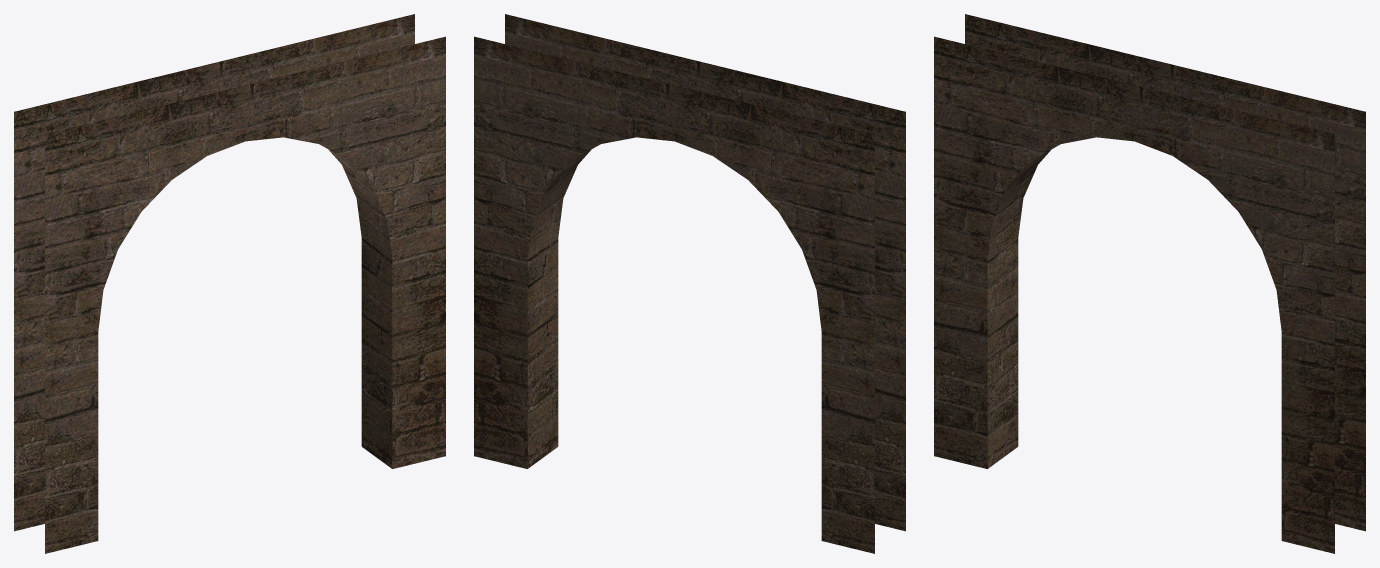
The model's file is arc_2_wall_1_plain.fbx.
The picture shows the model from 3 angles, left to right: view 1: azimuth 30°, elevation 25°; view 2: azimuth 150°, elevation 25°; view 3: azimuth 330°, elevation 25°; orthographic projection.
Parts seen in each view (by area): view 1: arc_2_wall_1_plain; view 2: arc_2_wall_1_plain; view 3: arc_2_wall_1_plain.
Part boxes in pixels (left/top/right/bottom): arc_2_wall_1_plain: left=14, top=14, right=445, bottom=553; arc_2_wall_1_plain: left=474, top=14, right=905, bottom=553; arc_2_wall_1_plain: left=934, top=14, right=1365, bottom=553.
Bounding box in the file's own units: 3 × 3 × 0.4.
